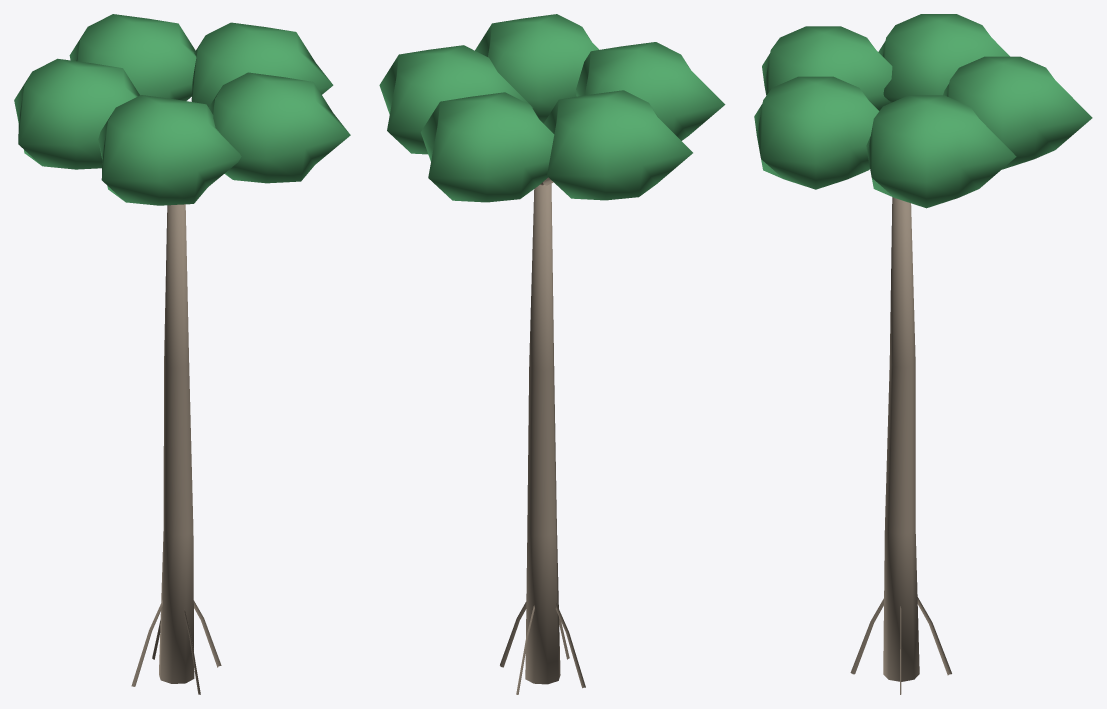
Rendered from canopy_rainforest_dipterocarp.glb.
3 renders of one model, left to right at view 1: azimuth 30°, elevation 25°; view 2: azimuth 150°, elevation 25°; view 3: azimuth 270°, elevation 25°, orthographic.
Parts seen in each view (by area): view 1: Flora_Dipterocarp; view 2: Flora_Dipterocarp; view 3: Flora_Dipterocarp.
Part boxes in pixels (x1,y1,x2,y2): Flora_Dipterocarp: [14, 14, 350, 694]; Flora_Dipterocarp: [379, 14, 725, 694]; Flora_Dipterocarp: [754, 14, 1092, 694].
Size of the model in its own units: 8.71 by 16.72 by 8.35.
